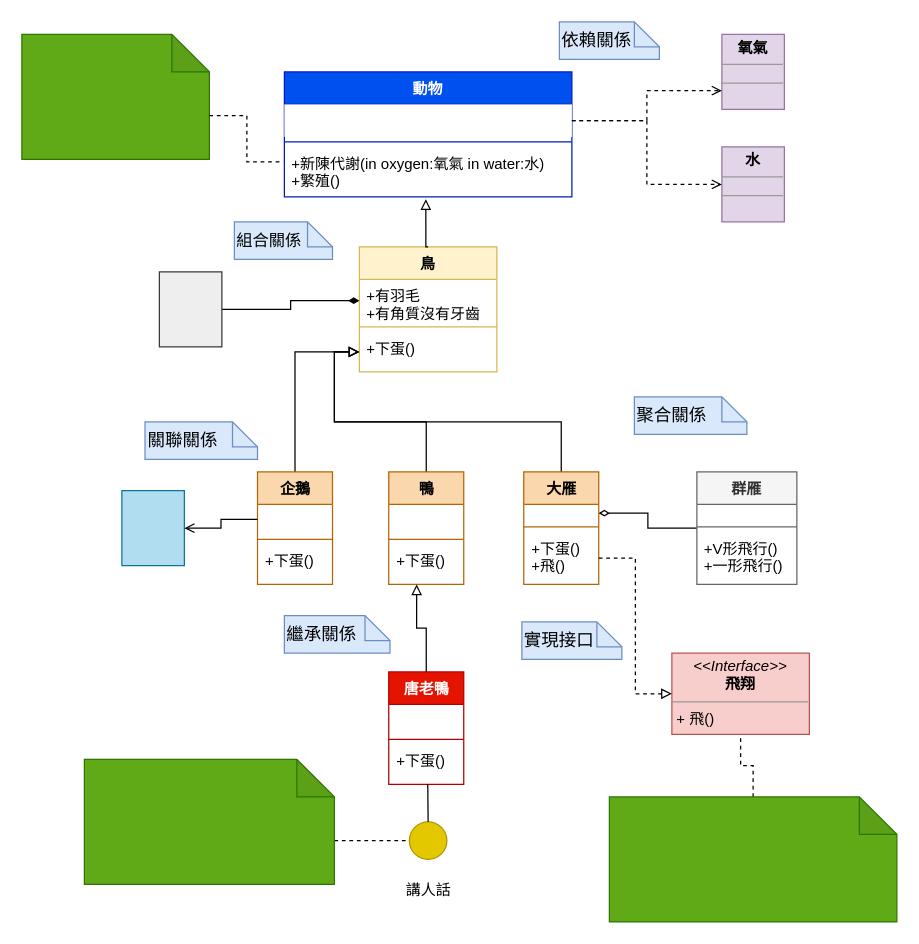
Image size: 919x944. Some labels were removed from this diagram. The centre of each missing label's shape, as x and y in pixels:
"+有生命" goes at point (427, 120).
"接口: 棒棒糖表示法 旁邊圍接口名稱 接口方法在現實類別中出現" goes at point (208, 821).
"接口: 矩形表示法,頂端有<<interface>> 第一行:接口名稱 第二行:接口方法" goes at point (752, 859).
"氣候" goes at point (152, 527).
"翅膀" goes at point (190, 309).
"類: 第一行:名稱類 第二行:屬性 第三行:方法" goes at point (115, 96).
